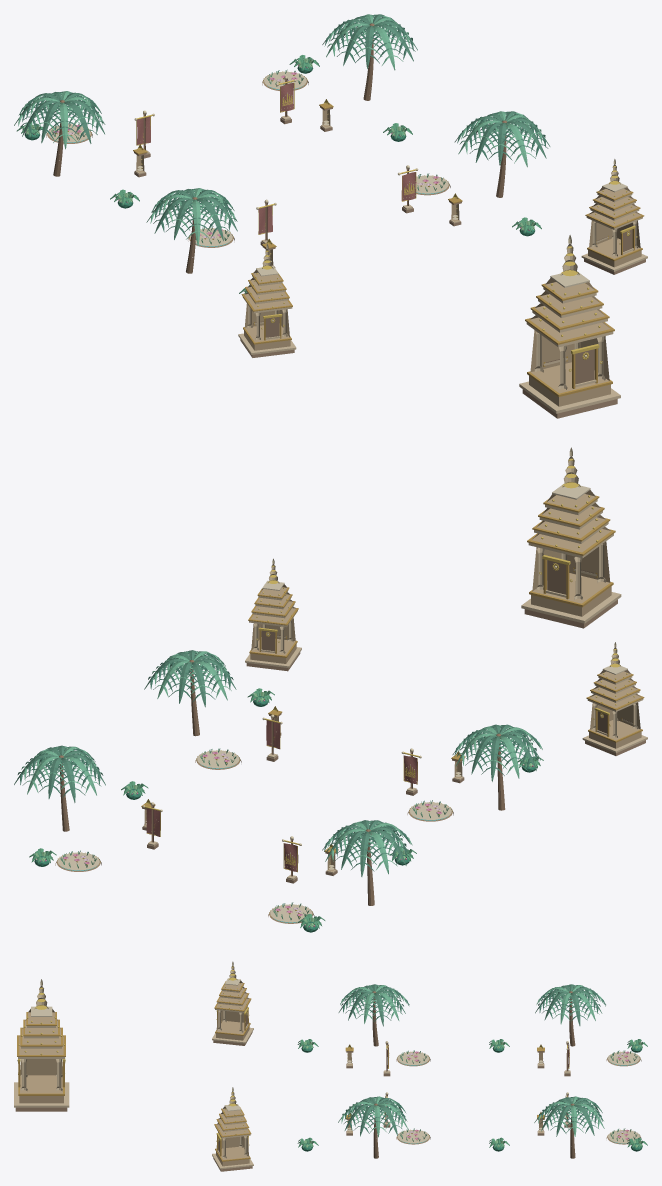
File: world1_scenery_addon_LITE.glb
The picture shows the model from 3 angles, top to bottom: view 1: azimuth 30°, elevation 25°; view 2: azimuth 150°, elevation 25°; view 3: azimuth 270°, elevation 25°; orthographic projection. The views are drawn at different scales.
Parts seen in each view (by area): view 1: World1SceneryLite_stone, World1SceneryLite_stone_light, World1SceneryLite_palm_bright, World1SceneryLite_palm_dark, World1SceneryLite_palm, World1SceneryLite_gold_deep, World1SceneryLite_stone_cream, World1SceneryLite_gold, World1SceneryLite_stone_shadow, World1SceneryLite_wood, World1SceneryLite_rust, World1SceneryLite_jade (+1 smaller); view 2: World1SceneryLite_stone, World1SceneryLite_stone_light, World1SceneryLite_palm_bright, World1SceneryLite_palm_dark, World1SceneryLite_palm, World1SceneryLite_gold_deep, World1SceneryLite_stone_cream, World1SceneryLite_gold, World1SceneryLite_stone_shadow, World1SceneryLite_wood, World1SceneryLite_jade, World1SceneryLite_rust (+1 smaller); view 3: World1SceneryLite_stone, World1SceneryLite_stone_light, World1SceneryLite_palm_bright, World1SceneryLite_palm_dark, World1SceneryLite_palm, World1SceneryLite_gold_deep, World1SceneryLite_stone_cream, World1SceneryLite_stone_shadow, World1SceneryLite_jade, World1SceneryLite_wood, World1SceneryLite_gold, World1SceneryLite_jade_dark.
Boxes of the visible parts, bbox=[...] form: World1SceneryLite_stone: bbox=[136, 109, 641, 406]; World1SceneryLite_stone_light: bbox=[135, 115, 647, 413]; World1SceneryLite_palm_bright: bbox=[14, 14, 542, 245]; World1SceneryLite_palm_dark: bbox=[18, 15, 548, 237]; World1SceneryLite_palm: bbox=[22, 14, 550, 240]; World1SceneryLite_gold_deep: bbox=[133, 103, 644, 396]; World1SceneryLite_stone_cream: bbox=[47, 71, 627, 287]; World1SceneryLite_gold: bbox=[47, 71, 637, 371]; World1SceneryLite_stone_shadow: bbox=[46, 79, 645, 418]; World1SceneryLite_wood: bbox=[53, 23, 506, 273]; World1SceneryLite_rust: bbox=[137, 83, 415, 233]; World1SceneryLite_jade: bbox=[16, 55, 541, 293]; World1SceneryLite_stone: bbox=[144, 490, 641, 871]; World1SceneryLite_stone_light: bbox=[143, 455, 647, 879]; World1SceneryLite_palm_bright: bbox=[21, 651, 542, 874]; World1SceneryLite_palm_dark: bbox=[17, 651, 540, 871]; World1SceneryLite_palm: bbox=[14, 650, 540, 876]; World1SceneryLite_gold_deep: bbox=[141, 495, 644, 853]; World1SceneryLite_stone_cream: bbox=[56, 484, 627, 922]; World1SceneryLite_gold: bbox=[45, 458, 634, 925]; World1SceneryLite_stone_shadow: bbox=[55, 599, 645, 923]; World1SceneryLite_wood: bbox=[59, 660, 505, 905]; World1SceneryLite_jade: bbox=[29, 688, 543, 928]; World1SceneryLite_rust: bbox=[146, 720, 417, 871]; World1SceneryLite_stone: bbox=[19, 980, 543, 1166]; World1SceneryLite_stone_light: bbox=[14, 965, 570, 1169]; World1SceneryLite_palm_bright: bbox=[338, 985, 604, 1137]; World1SceneryLite_palm_dark: bbox=[341, 985, 605, 1133]; World1SceneryLite_palm: bbox=[338, 984, 605, 1136]; World1SceneryLite_gold_deep: bbox=[17, 981, 544, 1161]; World1SceneryLite_stone_cream: bbox=[31, 978, 640, 1143]; World1SceneryLite_stone_shadow: bbox=[15, 1032, 641, 1171]; World1SceneryLite_jade: bbox=[297, 1039, 647, 1148]; World1SceneryLite_wood: bbox=[372, 991, 575, 1158]; World1SceneryLite_gold: bbox=[18, 966, 640, 1145]; World1SceneryLite_jade_dark: bbox=[301, 1044, 642, 1151].
Bounding box in the file's own units: 31.96 × 12.74 × 59.67.
